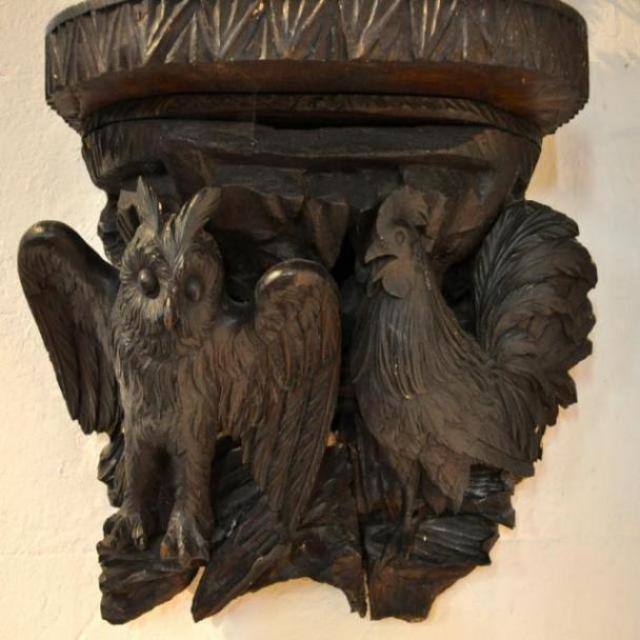Chicken: (345, 155, 587, 562)
